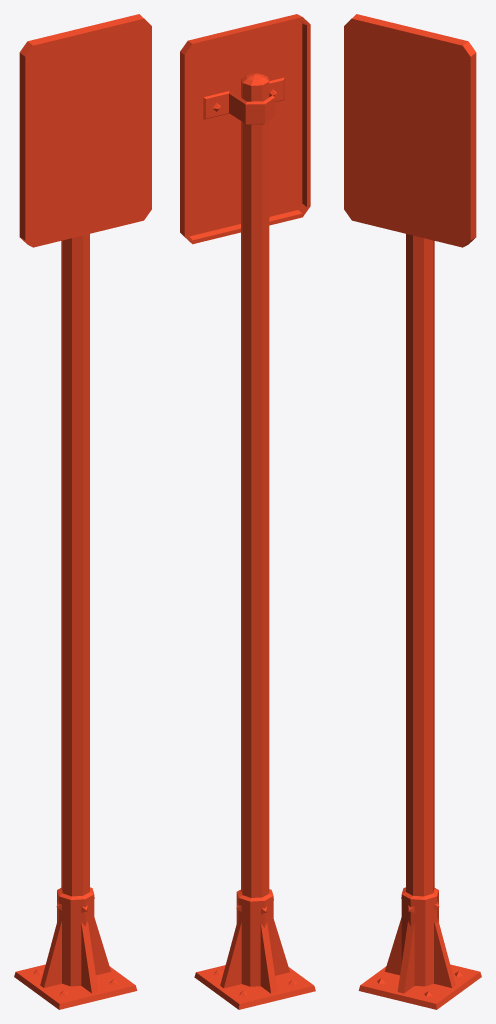
Rendered from SM_Sign_Bus_B_City.fbx.
3 renders of one model, left to right at view 1: azimuth 30°, elevation 25°; view 2: azimuth 210°, elevation 25°; view 3: azimuth 330°, elevation 25°, orthographic.
Visible parts, largest first — view 1: SM_Sign_Bus_B_City; view 2: SM_Sign_Bus_B_City; view 3: SM_Sign_Bus_B_City.
Part boxes in pixels (<box>): SM_Sign_Bus_B_City: <box>14,14,151,1009</box>; SM_Sign_Bus_B_City: <box>180,14,315,1009</box>; SM_Sign_Bus_B_City: <box>344,14,481,1009</box>.
Size of the model in its own units: 0.3005 by 2.16 by 0.1839.
